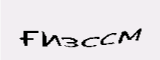Б: (49, 24, 61, 46)
Г: (37, 21, 50, 41)
З: (83, 17, 104, 49)
О: (106, 23, 127, 47)
Ф: (61, 22, 81, 47)
